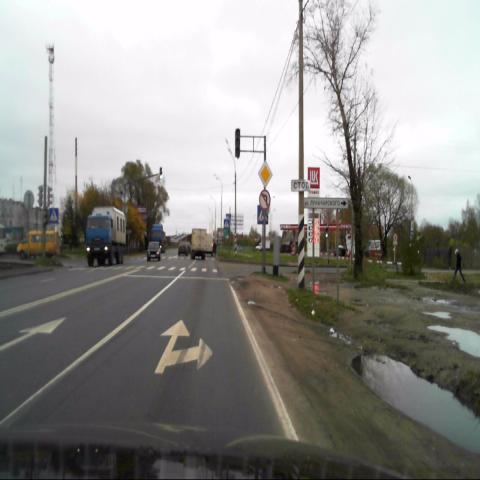3_18_2: (259, 189, 271, 210)
